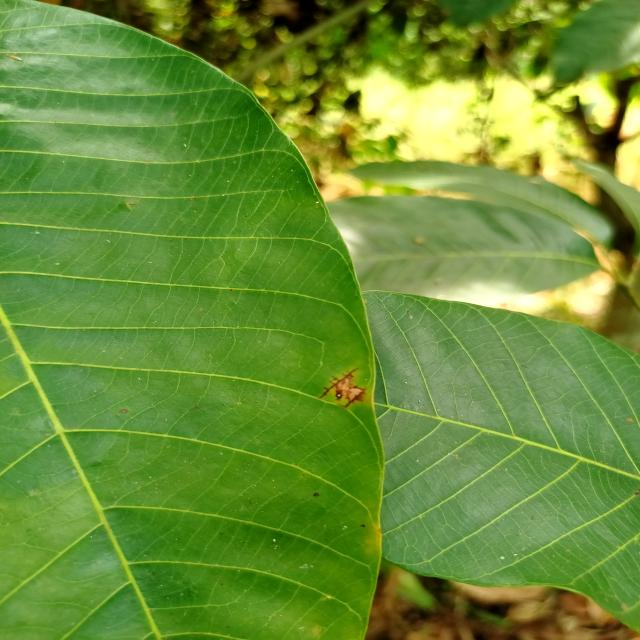Colletotrichum: (313, 492, 319, 497)
Corynespora: (317, 367, 368, 408)
